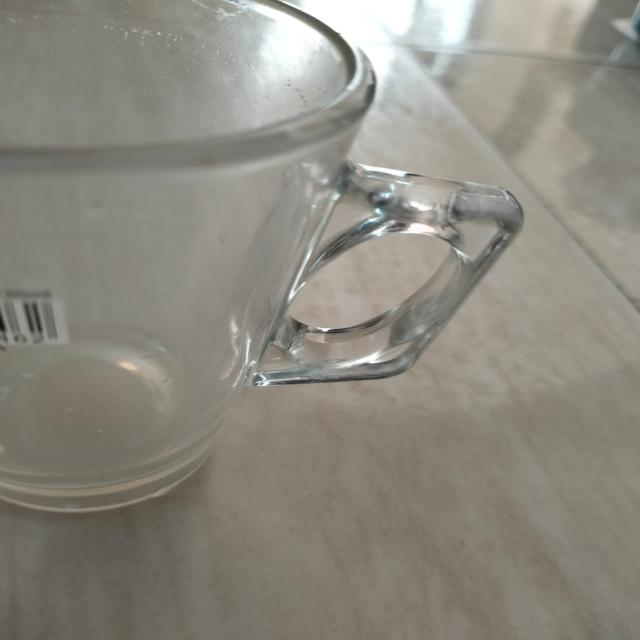glass-VX4N: (1, 4, 524, 516)
